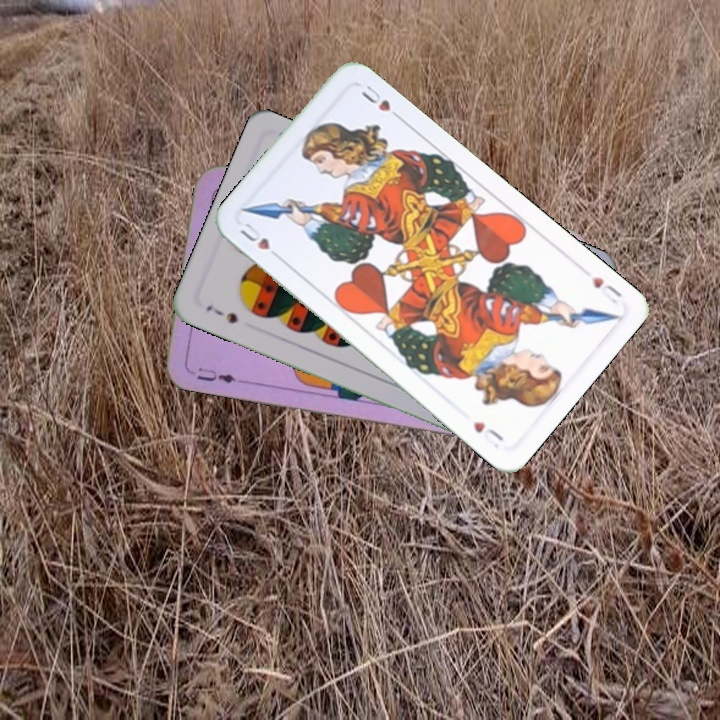EU: (193, 363, 239, 386)
HU: (236, 218, 285, 264), (587, 272, 625, 306)
S7: (202, 301, 240, 327)
